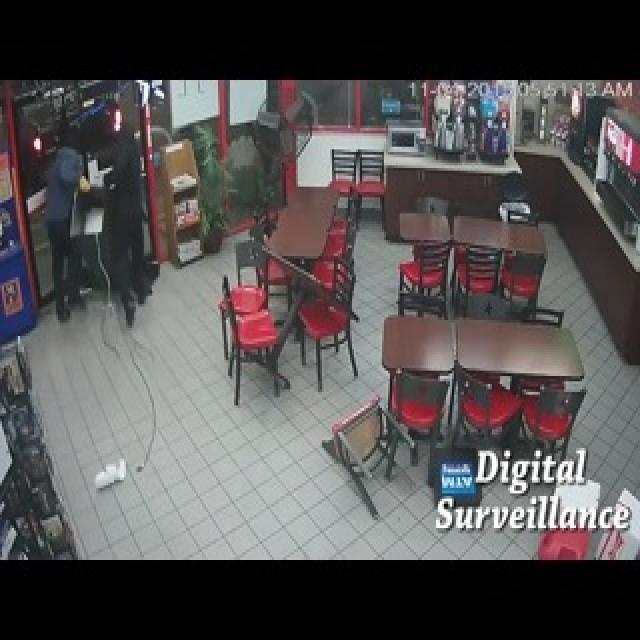thief: (46, 111, 146, 208)
